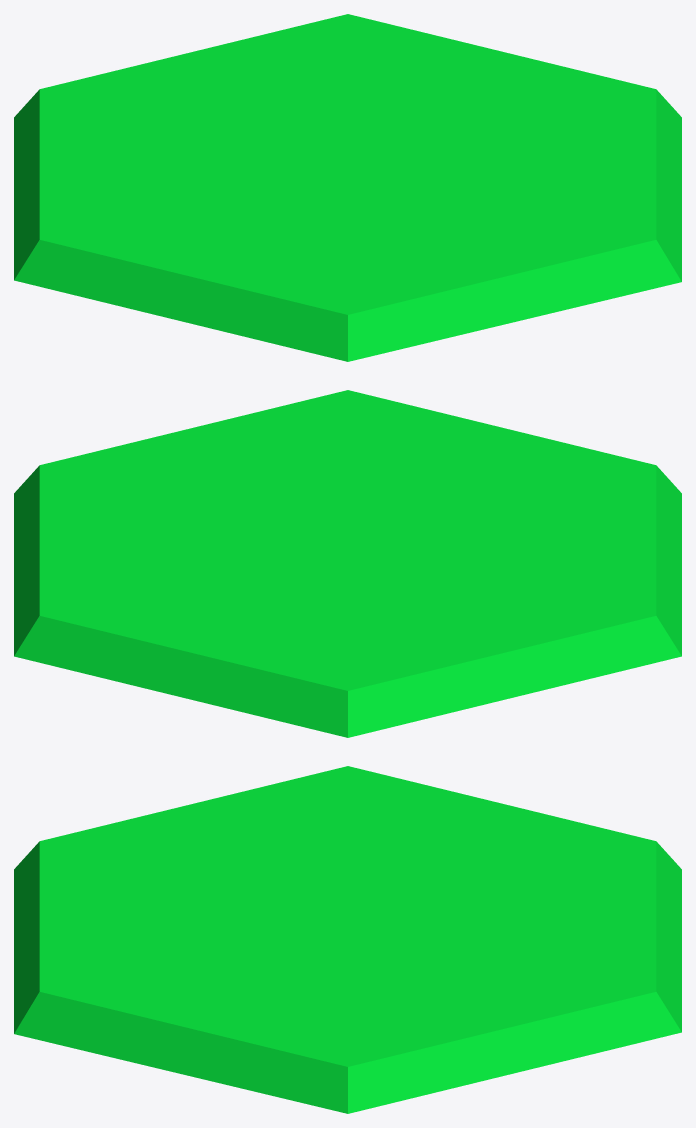
File: Screw_A_Base.fbx
3 views of the same model, one above another, from view 1: azimuth 30°, elevation 25°; view 2: azimuth 150°, elevation 25°; view 3: azimuth 270°, elevation 25° (orthographic).
Visible parts, largest first — view 1: Screw_A_Base; view 2: Screw_A_Base; view 3: Screw_A_Base.
Boxes of the visible parts, x1,y1,x2,y2 form: Screw_A_Base: (14,14,681,361); Screw_A_Base: (14,390,681,737); Screw_A_Base: (14,766,681,1113).
Size of the model in its own units: 1.46 by 0.0753 by 1.26.
